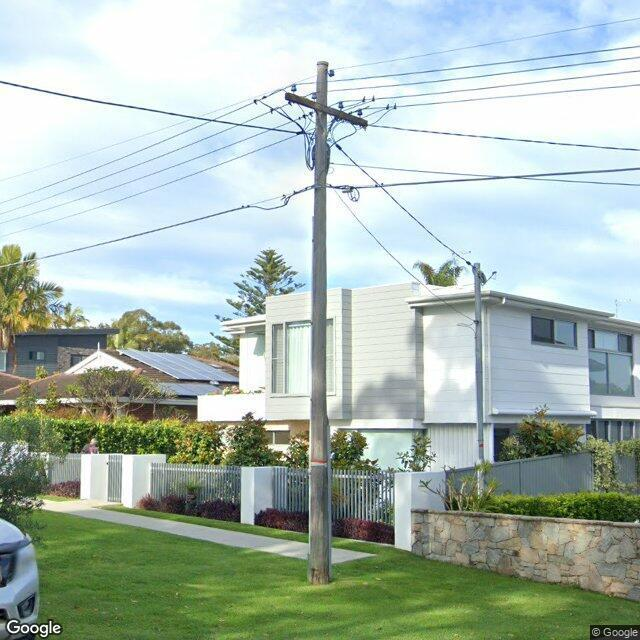crossarm: (284, 92, 368, 128)
steel-pole: (473, 263, 485, 499)
timber-pole: (307, 61, 330, 585)
